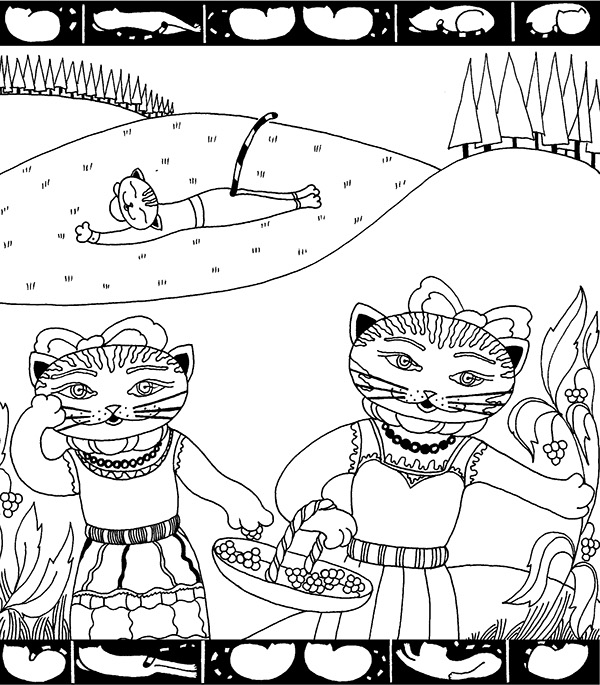cat: (269, 284, 596, 641), (5, 320, 282, 641), (66, 114, 333, 255)
